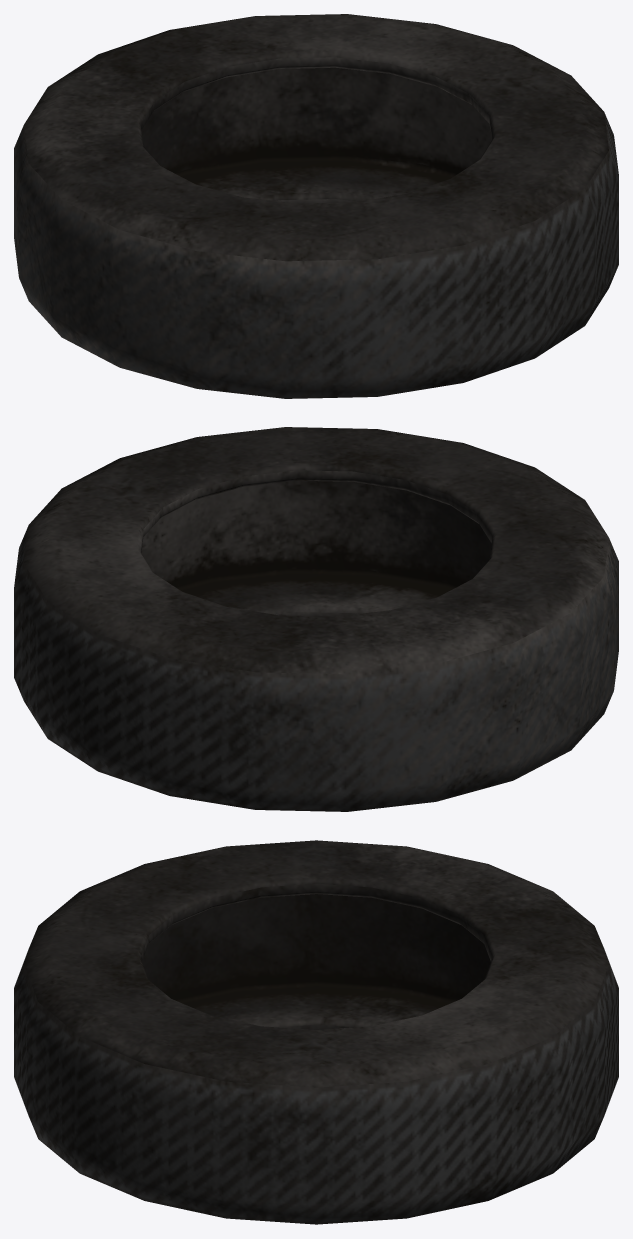
File: tire0.glb
3 views of the same model, one above another, from view 1: azimuth 30°, elevation 25°; view 2: azimuth 150°, elevation 25°; view 3: azimuth 270°, elevation 25° (orthographic).
Visible parts, largest first — view 1: Tire_low_Tire_0; view 2: Tire_low_Tire_0; view 3: Tire_low_Tire_0.
Part boxes in pixels (x1,y1,x2,y2): Tire_low_Tire_0: (14, 14, 618, 398); Tire_low_Tire_0: (14, 427, 618, 811); Tire_low_Tire_0: (14, 840, 618, 1224).
Bounding box in the file's own units: 0.8786 × 0.2513 × 0.8786.
Materials: 1 (1 with a texture image).
